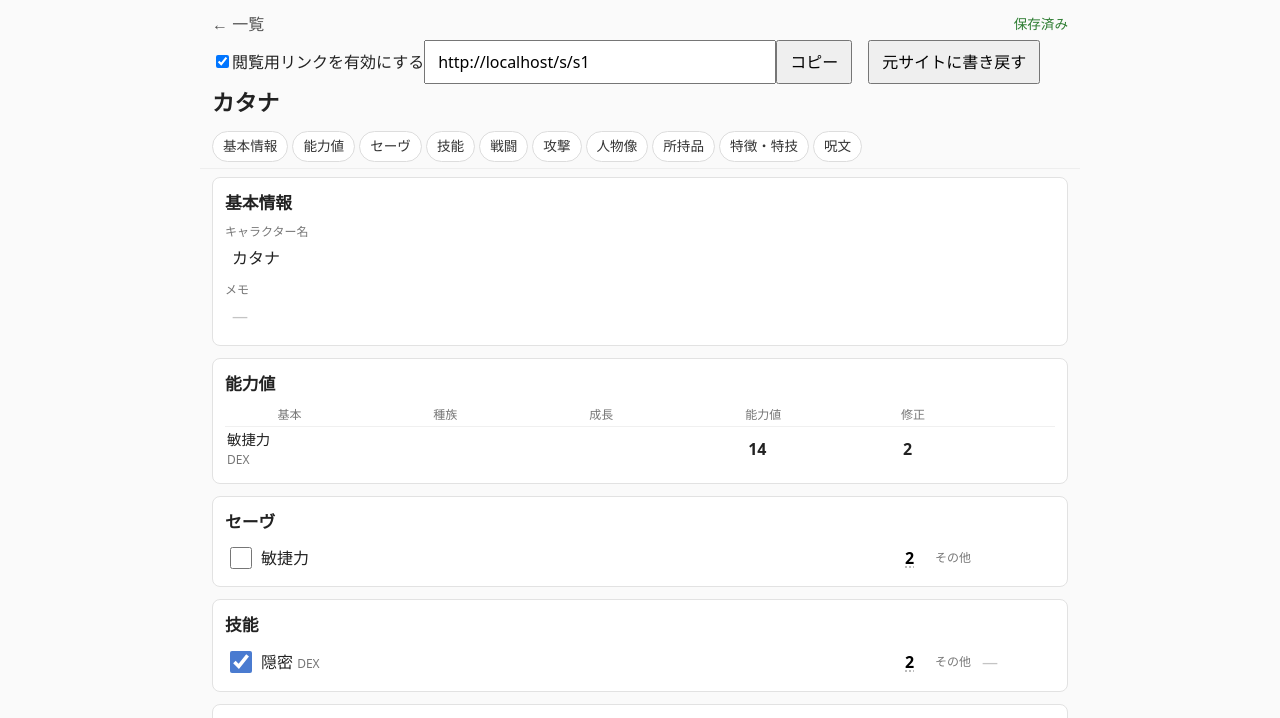
Test: SheetPage › shows share toggle and write-back button for the owner on /c/ and opens the dialog
Expected: the checkbox labelled "閲覧用リンクを有効にする" is checked, [216,55,229,68]
Click the button "元サイトに書き戻す".
click(954, 62)  # box [868,40,1040,84]
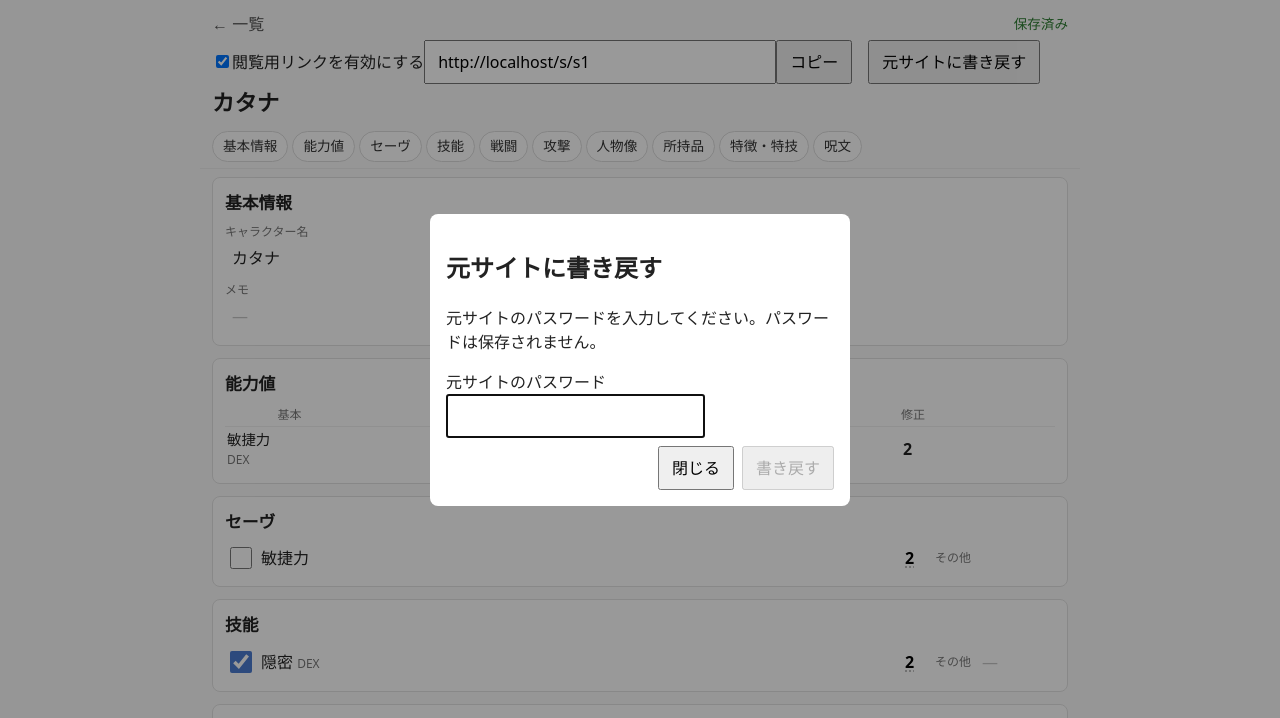
Expected: the dialog is shown, [430,214,850,506]
Click the button "閉じる".
click(696, 468)  # box [658,446,734,490]
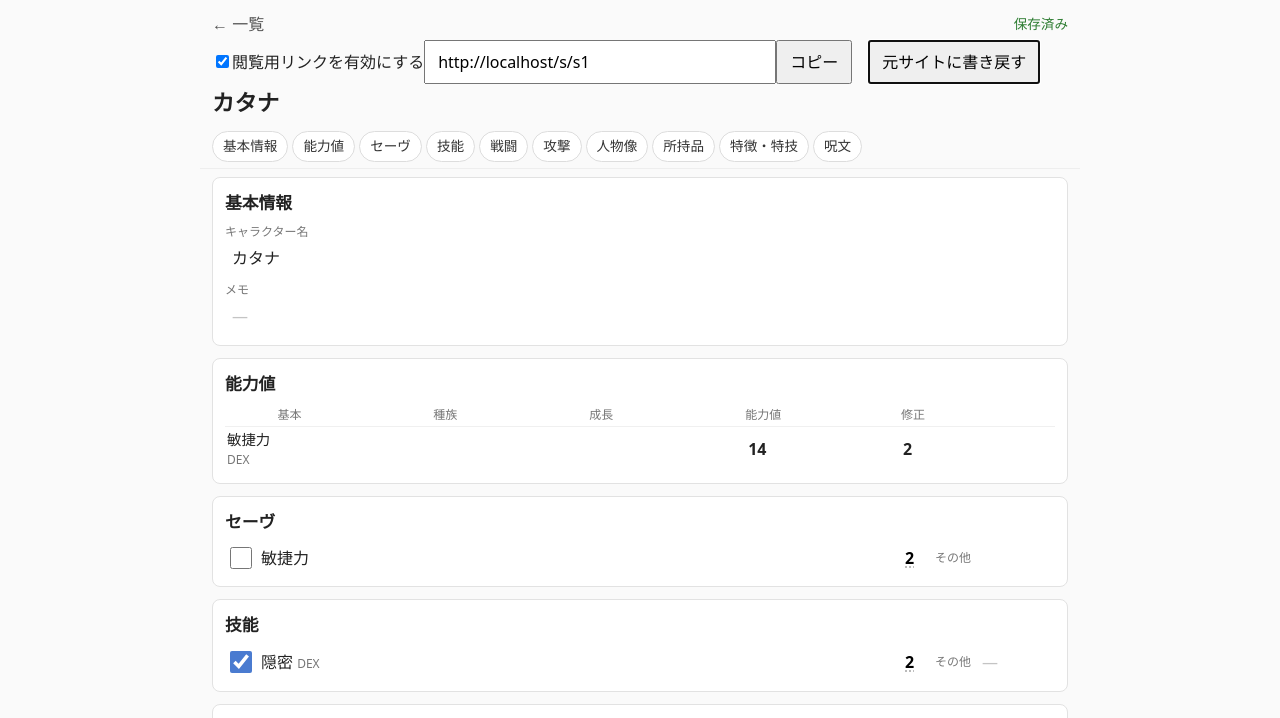
Expected: the dialog is gone
